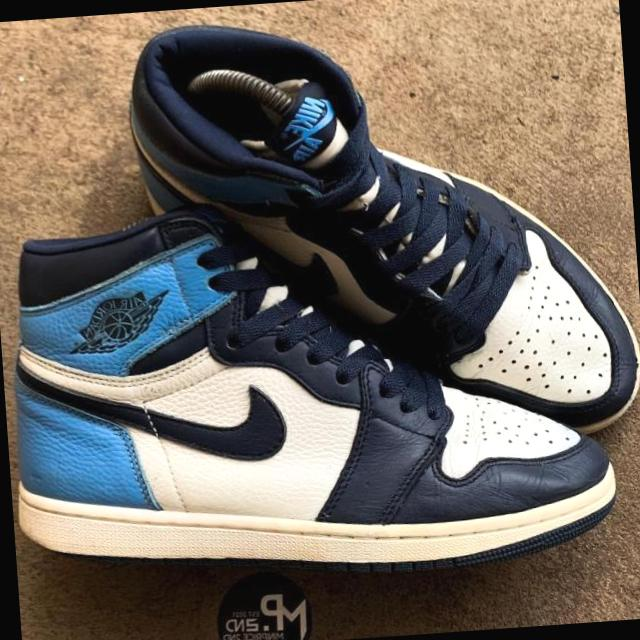nike_original_jordan: (0, 178, 629, 597), (106, 13, 640, 471)
